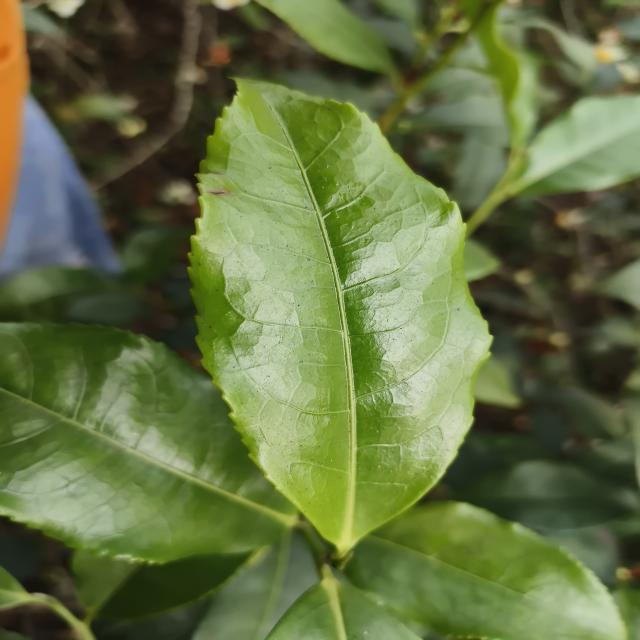Leaf: (191, 81, 489, 555), (0, 323, 297, 562), (346, 502, 626, 640), (191, 532, 318, 640), (513, 95, 640, 195), (72, 550, 251, 620), (461, 460, 633, 529), (266, 565, 419, 640), (255, 0, 394, 74), (477, 9, 535, 151), (121, 225, 184, 285)
